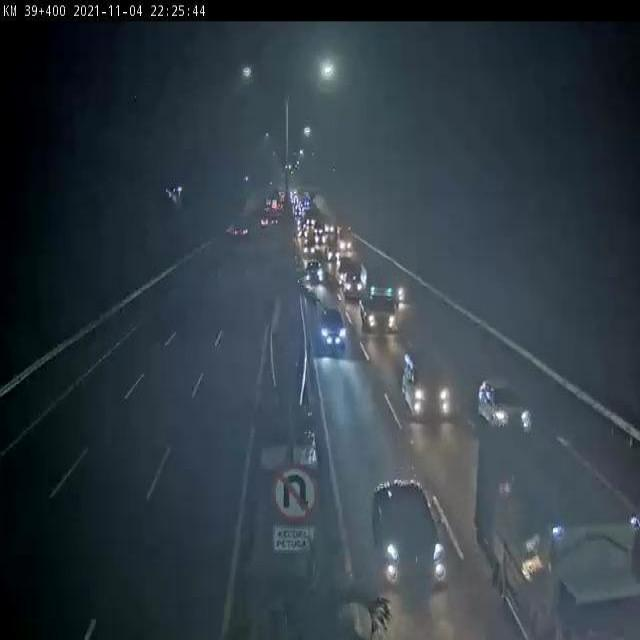car: (371, 483, 444, 596), (402, 348, 455, 423), (475, 376, 534, 435), (316, 307, 347, 357), (344, 268, 366, 299), (305, 258, 324, 286)
truck-m-: (478, 424, 640, 640), (359, 267, 400, 333)
